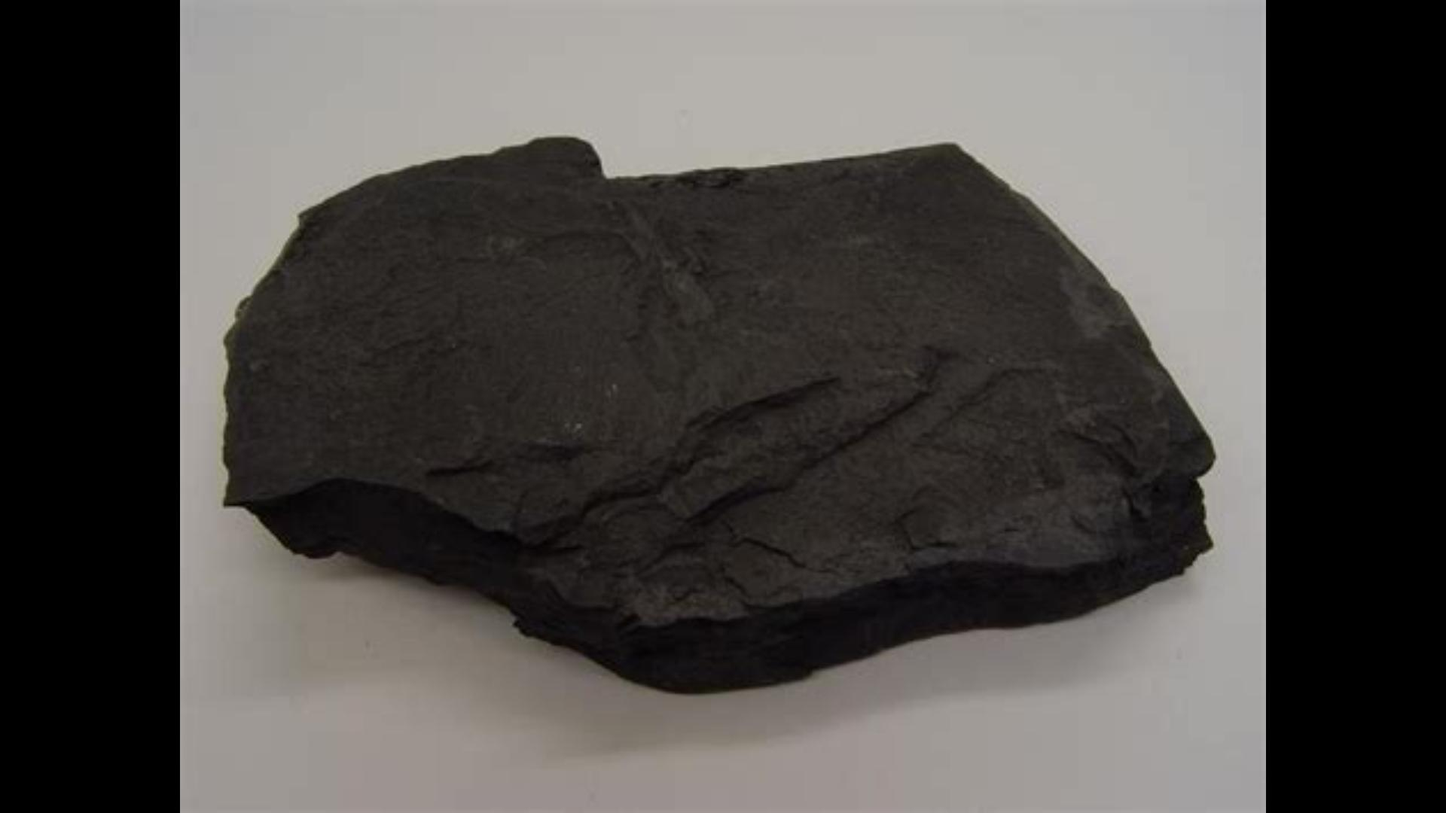rock: (226, 140, 1209, 682)
